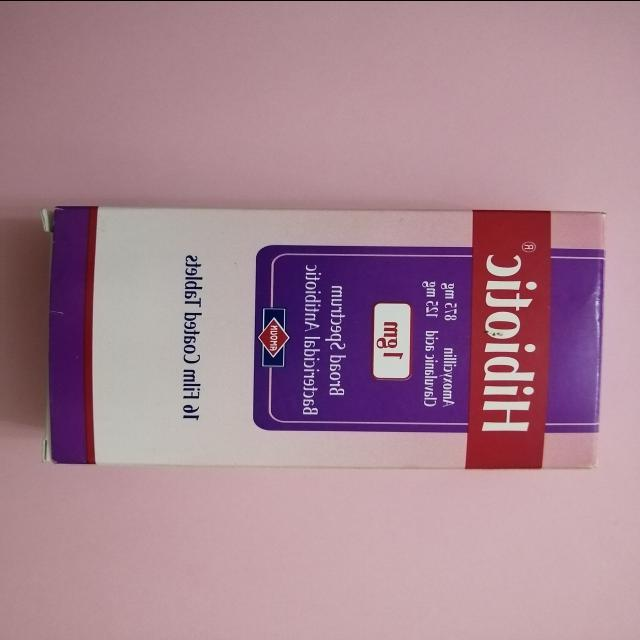Medicine Name: (476, 251, 544, 440)
